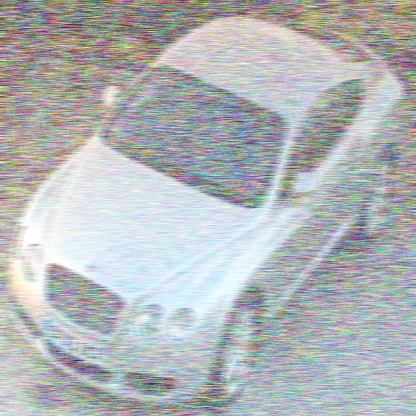Vehicle: (6, 11, 407, 412)
